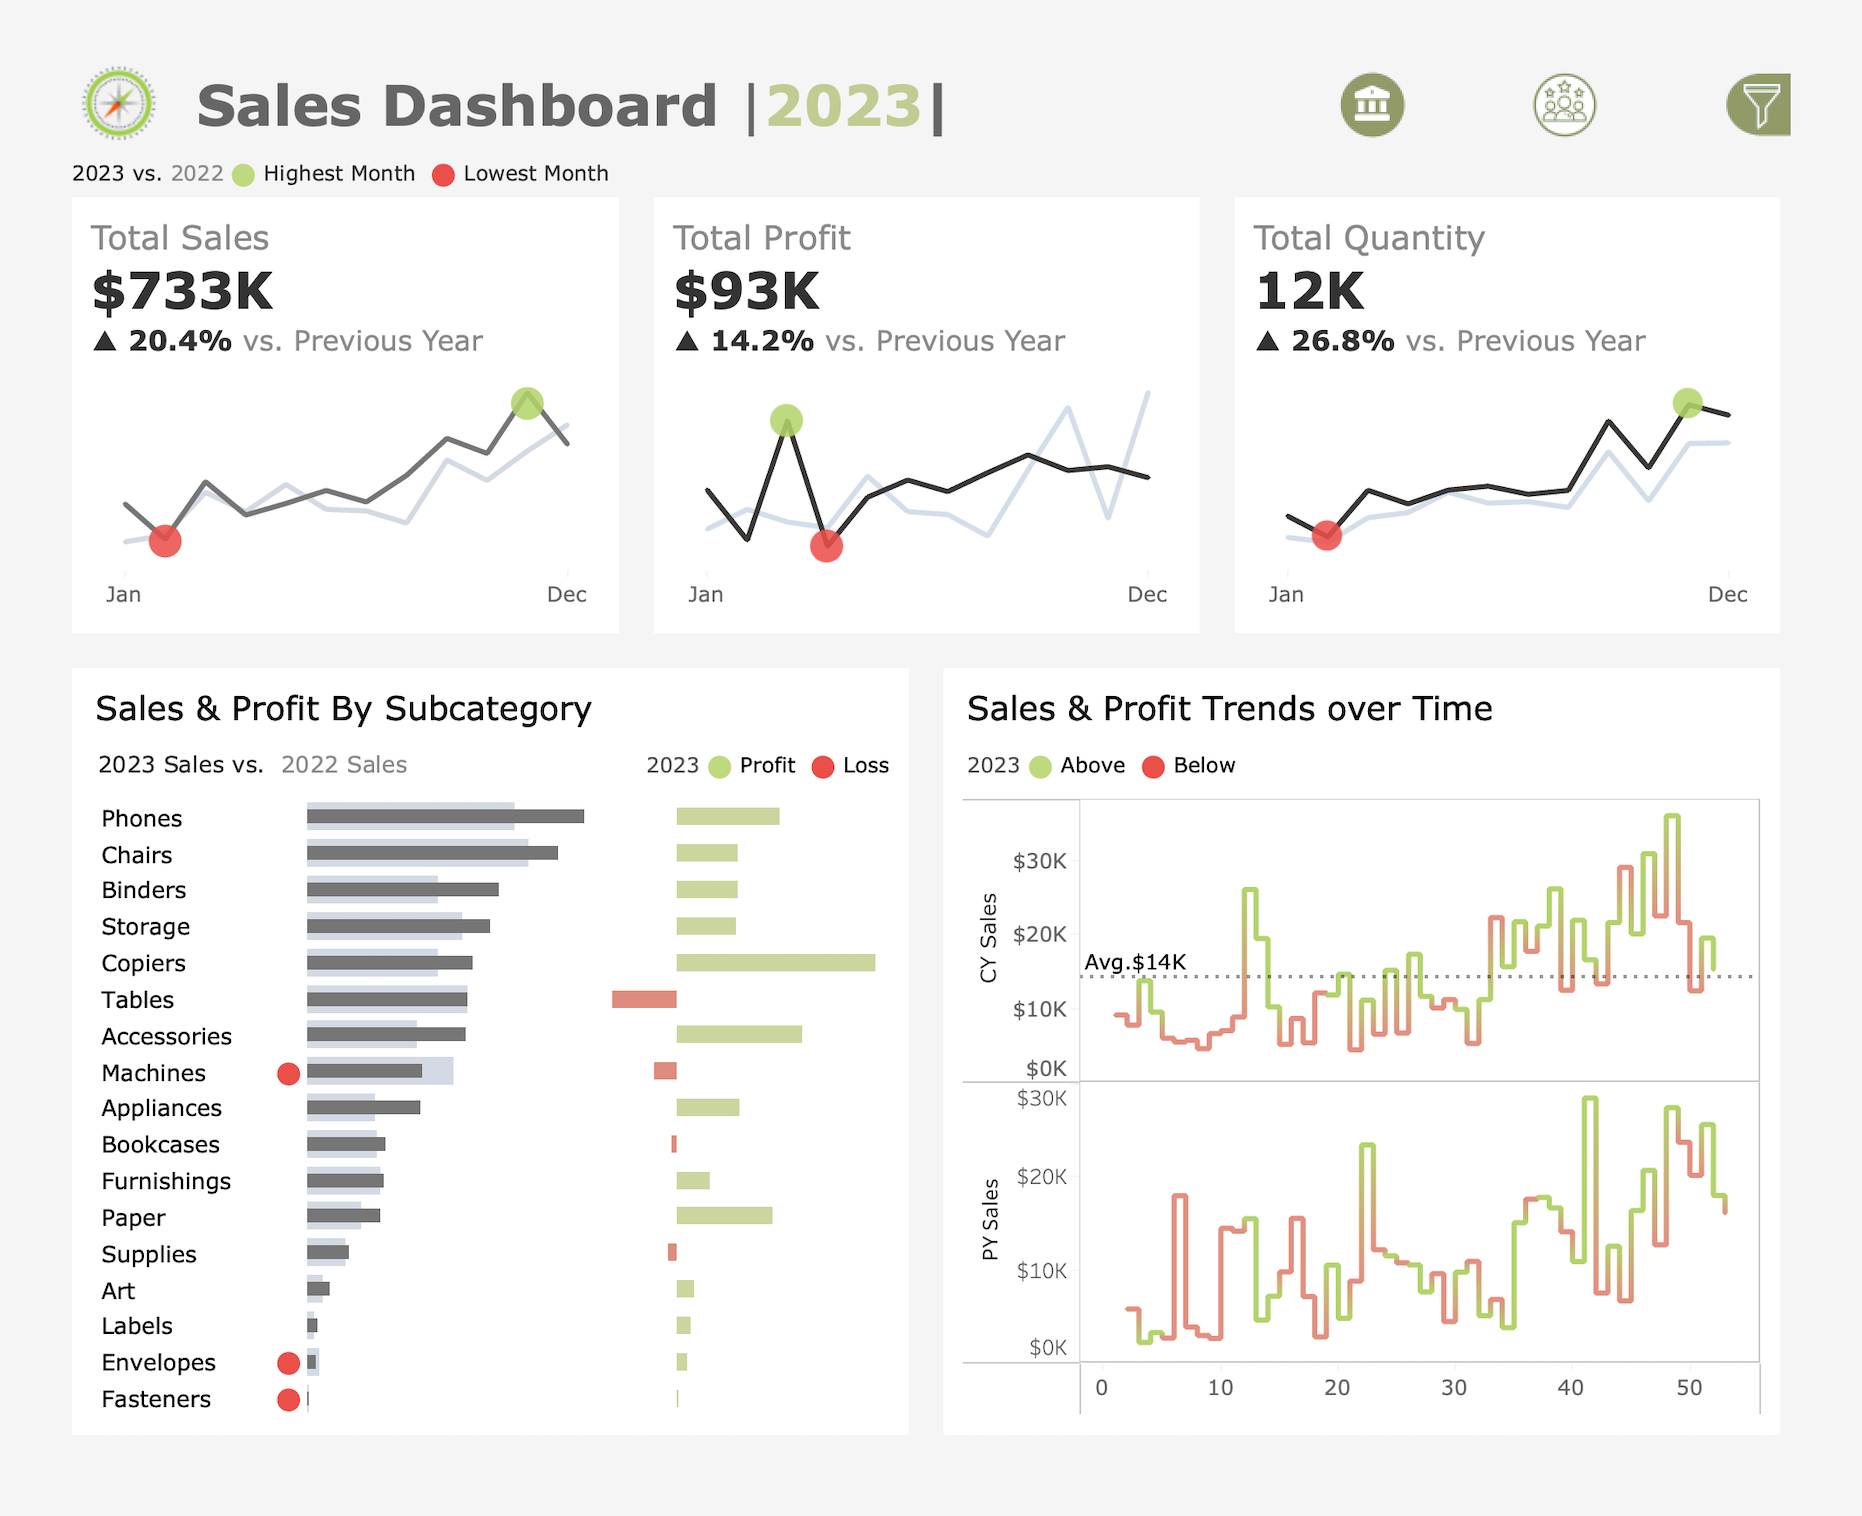

What the dashboard file says about the page in this screenshot:
{"tool":"tableau","page":{"name":"Sales Dashboard","canvas":[1000,800],"ordinal":1},"visuals":[{"type":"image","param":"/Users/karylam/Downloads/output-onlinepngtools-4.png","box":[0,0,75,52]},{"type":"text","box":[75,0,925,52]},{"type":"dashboard-object","box":[701,4,111,46]},{"type":"dashboard-object","box":[812,4,110,46]},{"type":"blank","box":[740,10,247,50]},{"type":"worksheet","title":"Legend KPI","mark":"Automatic","box":[0,52,1000,28]},{"type":"text","box":[740,60,247,32]},{"type":"worksheet","title":"KPI Sales","mark":"Automatic","rows":["Calculation_114841804368683015"],"cols":["Order Date"],"box":[0,80,334,260]},{"type":"worksheet","title":"KPI Profit","mark":"Line","rows":["Calculation_114841804549926930"],"cols":["Order Date"],"box":[334,80,333,260]},{"type":"worksheet","title":"KPI Quantity","mark":"Line","rows":["Calculation_114841804563677208"],"cols":["Order Date"],"box":[667,80,333,260]},{"type":"parameter","param":"[Parameters].[Parameter 1]","box":[740,92,247,33]},{"type":"text","box":[740,125,247,27]},{"type":"filter","title":"KPI Sales","param":"[federated.09iyx5y0fwx3ja14aoqo71dc7hkx].[none:Category:nk]","box":[740,152,247,52]},{"type":"filter","title":"KPI Sales","param":"[federated.09iyx5y0fwx3ja14aoqo71dc7hkx].[none:Sub-Category:nk]","box":[740,204,247,51]},{"type":"blank","box":[740,255,247,59]},{"type":"text","box":[740,314,247,38]},{"type":"filter","title":"KPI Sales","param":"[federated.09iyx5y0fwx3ja14aoqo71dc7hkx].[none:Region:nk]","box":[740,352,247,52]},{"type":"text","box":[17,357,466,32]},{"type":"text","box":[517,357,466,32]},{"type":"worksheet","title":"Legend Subcategory","mark":"Automatic","box":[17,389,316,32]},{"type":"text","box":[333,389,150,32]},{"type":"text","box":[517,389,466,32]},{"type":"filter","title":"KPI Sales","param":"[federated.09iyx5y0fwx3ja14aoqo71dc7hkx].[none:State:nk]","box":[740,404,247,52]},{"type":"worksheet","title":"Subcategory Comparison","mark":"Bar","rows":["Sub-Category","Calculation_114841804902531103"],"cols":["CY Sales (copy)_114841804356157444","Calculation_114841804355772419","Calculation_114841804542881805"],"box":[17,421,466,361.9]},{"type":"worksheet","title":"Weekly Trend","mark":"Automatic","rows":["Calculation_114841804355772419","CY Sales (copy)_114841804356157444"],"cols":["Order Date"],"box":[517,421,466,362]},{"type":"filter","title":"KPI Sales","param":"[federated.09iyx5y0fwx3ja14aoqo71dc7hkx].[none:City:nk]","box":[740,456,247,52]}]}

Visuals, with their boxes in screenshot pixels (x1, y1, x2, y2), scaled from the page's 1000x800 canvas onto the 1862x1516 screenshot:
image: bbox=[0, 0, 140, 99]
text: bbox=[140, 0, 1861, 99]
dashboard-object: bbox=[1305, 8, 1512, 95]
dashboard-object: bbox=[1512, 8, 1717, 95]
blank: bbox=[1378, 19, 1838, 114]
"Legend KPI" worksheet: bbox=[0, 99, 1861, 152]
text: bbox=[1378, 114, 1838, 174]
"KPI Sales" worksheet: bbox=[0, 152, 622, 644]
"KPI Profit" worksheet (Line marks): bbox=[622, 152, 1242, 644]
"KPI Quantity" worksheet (Line marks): bbox=[1242, 152, 1861, 644]
parameter: bbox=[1378, 174, 1838, 237]
text: bbox=[1378, 237, 1838, 288]
"KPI Sales" filter: bbox=[1378, 288, 1838, 387]
"KPI Sales" filter: bbox=[1378, 387, 1838, 483]
blank: bbox=[1378, 483, 1838, 595]
text: bbox=[1378, 595, 1838, 667]
"KPI Sales" filter: bbox=[1378, 667, 1838, 766]
text: bbox=[32, 677, 899, 737]
text: bbox=[963, 677, 1830, 737]
"Legend Subcategory" worksheet: bbox=[32, 737, 620, 798]
text: bbox=[620, 737, 899, 798]
text: bbox=[963, 737, 1830, 798]
"KPI Sales" filter: bbox=[1378, 766, 1838, 864]
"Subcategory Comparison" worksheet (Bar marks): bbox=[32, 798, 899, 1484]
"Weekly Trend" worksheet: bbox=[963, 798, 1830, 1484]
"KPI Sales" filter: bbox=[1378, 864, 1838, 963]
